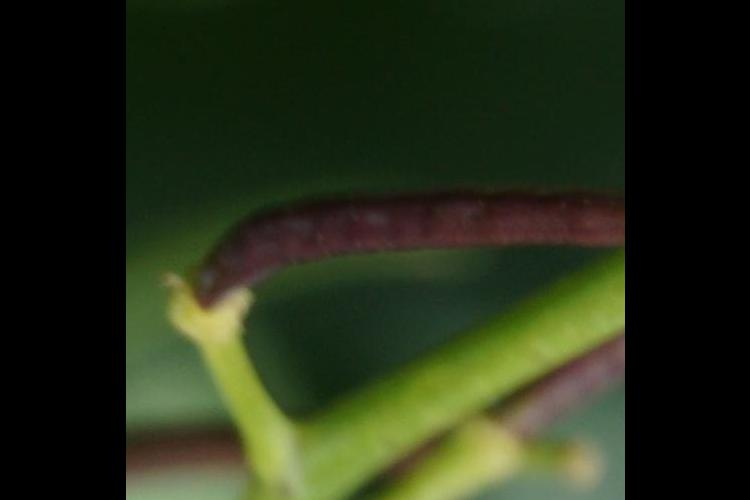pod: (147, 176, 612, 363)
